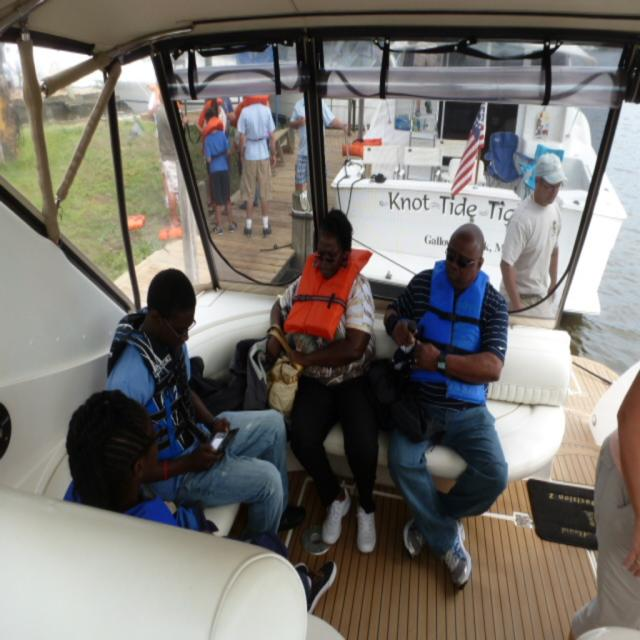Boat: (0, 0, 637, 639)
